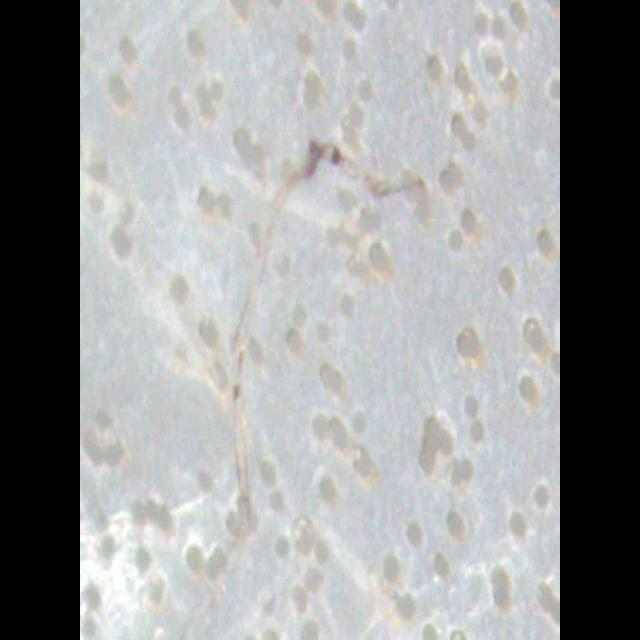Fibre: (222, 126, 428, 526)
